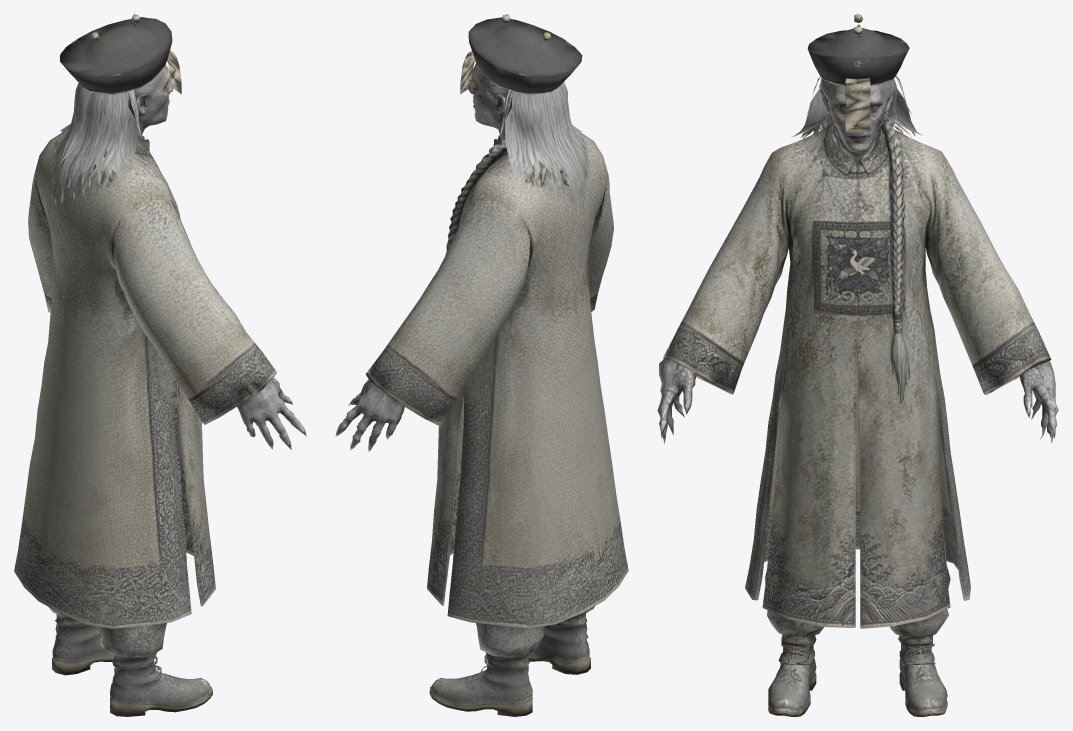
File: jiangshi_opt.glb
3 views of the same model, side by side, from view 1: azimuth 30°, elevation 25°; view 2: azimuth 150°, elevation 25°; view 3: azimuth 270°, elevation 25° (orthographic).
Visible parts, largest first — view 1: tripo_node_3bc80f80-d56c-4084-964c-0c6c3c7e40a2; view 2: tripo_node_3bc80f80-d56c-4084-964c-0c6c3c7e40a2; view 3: tripo_node_3bc80f80-d56c-4084-964c-0c6c3c7e40a2.
Part boxes in pixels (x1,y1,x2,y2): tripo_node_3bc80f80-d56c-4084-964c-0c6c3c7e40a2: (14,14,306,716); tripo_node_3bc80f80-d56c-4084-964c-0c6c3c7e40a2: (335,14,628,716); tripo_node_3bc80f80-d56c-4084-964c-0c6c3c7e40a2: (657,14,1058,716).
Size of the model in its own units: 0.2715 by 0.998 by 0.5371.
Materials: 1 (1 with a texture image).
